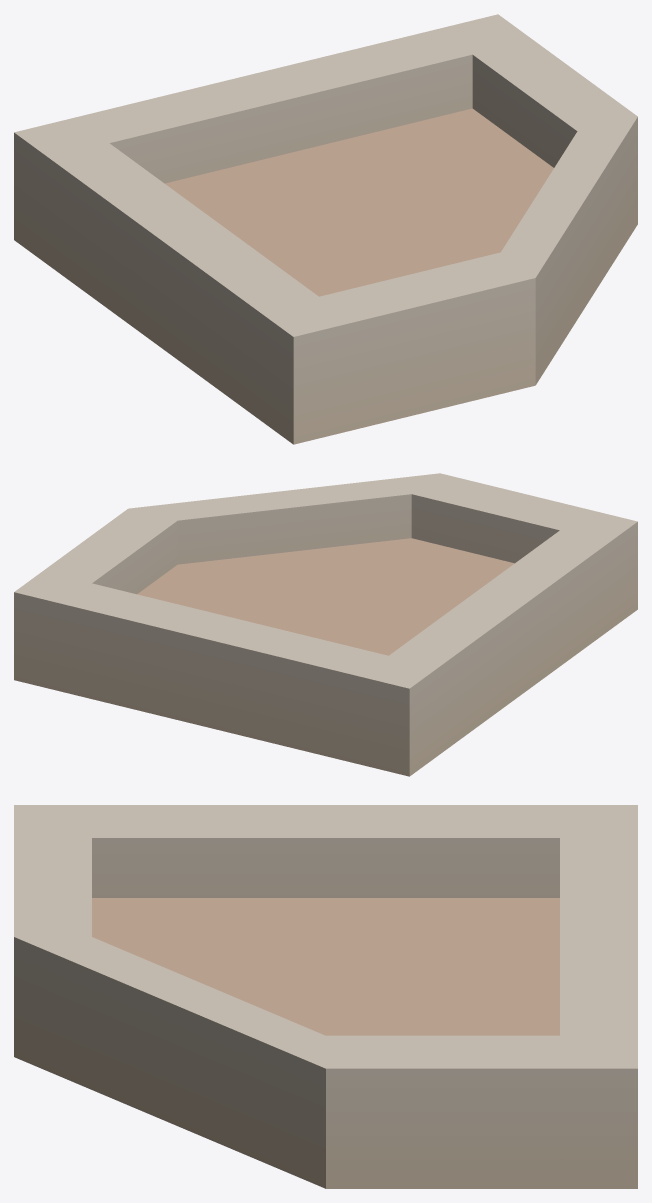
File: roof-flat-border-center-corner.glb
3 renders of one model, top to bottom at view 1: azimuth 30°, elevation 25°; view 2: azimuth 150°, elevation 25°; view 3: azimuth 270°, elevation 25°, orthographic. The views are drawn at different scales.
Visible parts, largest first — view 1: roof-flat-border-center-corner; view 2: roof-flat-border-center-corner; view 3: roof-flat-border-center-corner.
Part boxes in pixels (<box>): roof-flat-border-center-corner: <box>14,14,637,444</box>; roof-flat-border-center-corner: <box>14,473,637,776</box>; roof-flat-border-center-corner: <box>14,805,637,1188</box>.
Bounding box in the file's own units: 1 × 0.2125 × 1.
